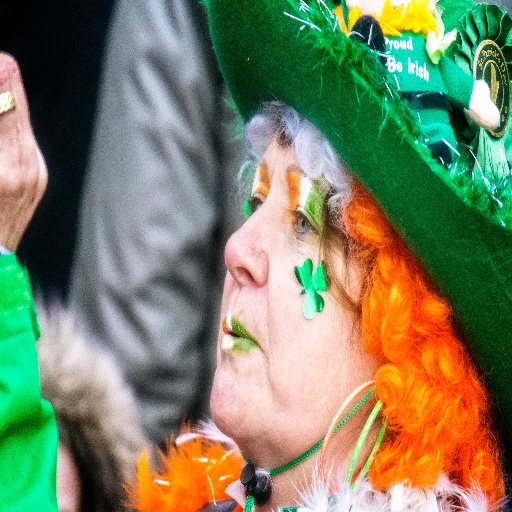hand: (0, 51, 48, 245)
